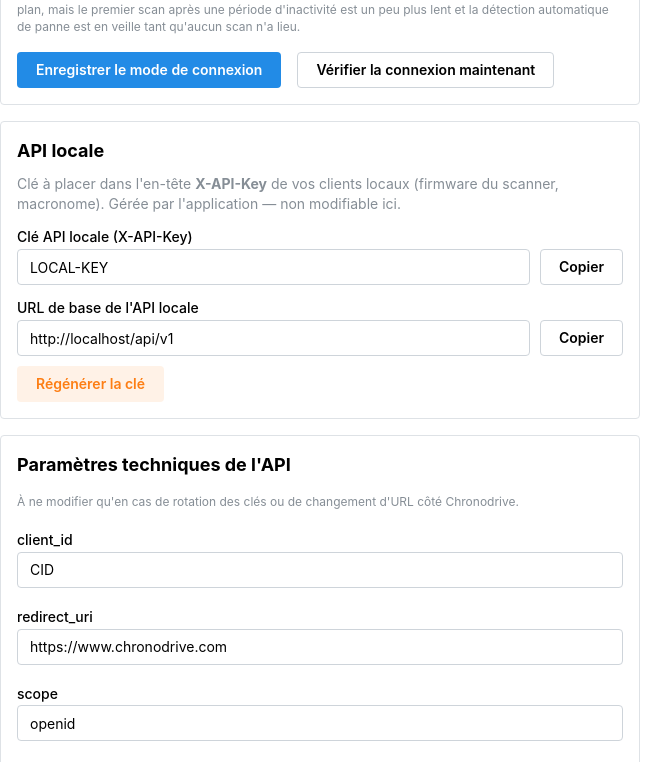
it: ConfigPage › shows the local API key + base URL read-only and regenerates it (BL-013)
(page scrolled)
Expected: the field showing "LOCAL-KEY" is shown, x1=17 y1=249 x2=530 y2=285
Expected: the field showing "/api/v1" is shown, x1=17 y1=320 x2=530 y2=356
Click the button "Régénérer la clé". click: (91, 384)
box: x1=17 y1=366 x2=164 y2=402
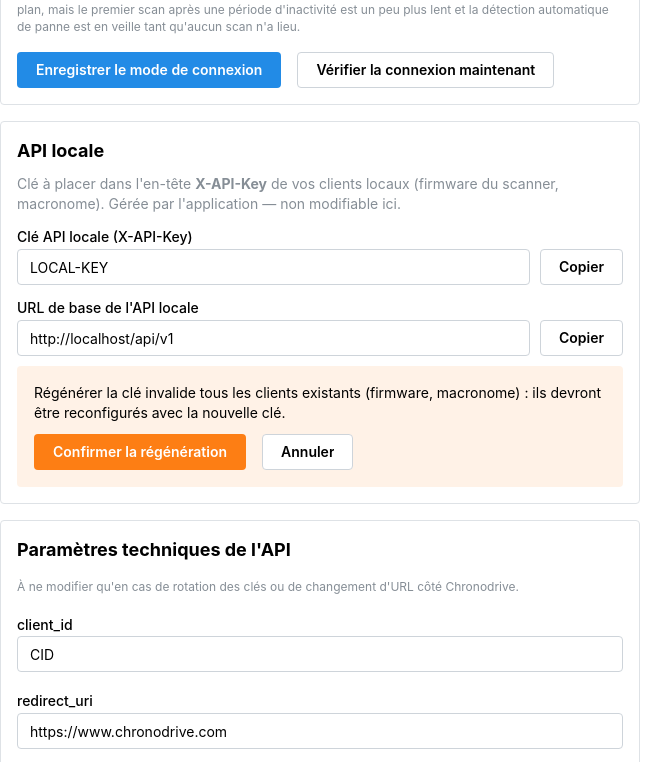
Click the button "Confirmer la régénération". click: (140, 452)
box: x1=34 y1=434 x2=246 y2=470
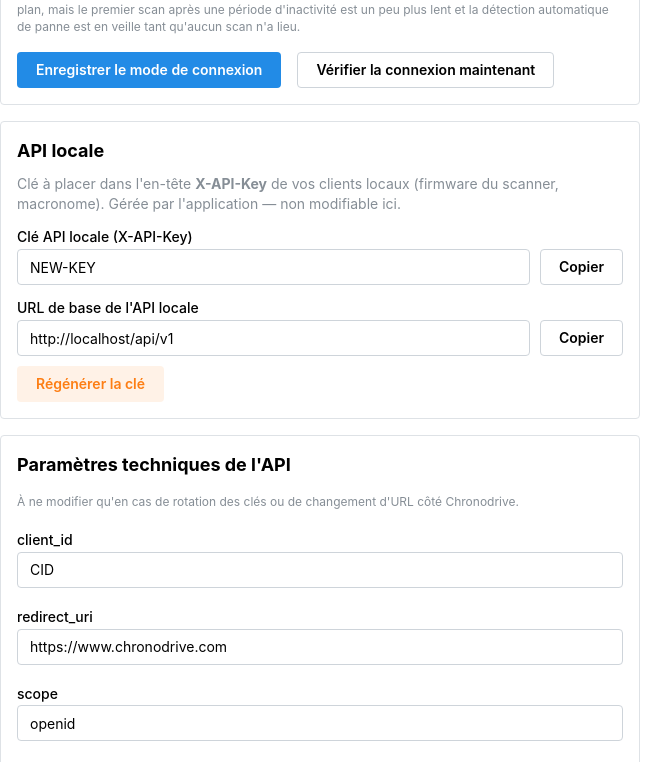
Result: the field showing "NEW-KEY" is shown at x1=17 y1=249 x2=530 y2=285
